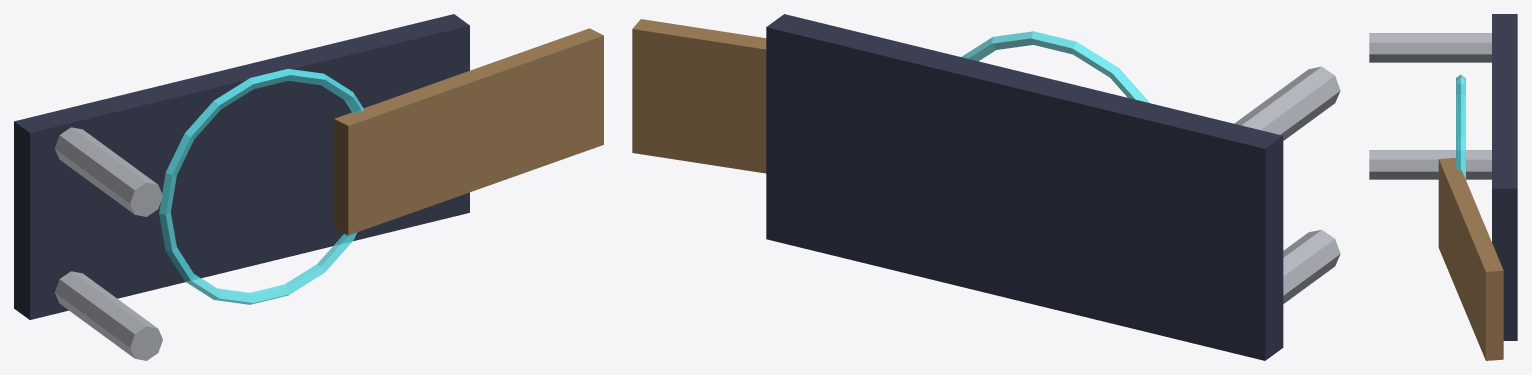
The model's file is 10_skyship_dock.glb.
The picture shows the model from 3 angles, left to right: view 1: azimuth 30°, elevation 25°; view 2: azimuth 150°, elevation 25°; view 3: azimuth 270°, elevation 25°; orthographic projection. The views are drawn at different scales.
Visible parts, largest first — view 1: dock_platform, boarding_ramp, dock_marker_ring, mooring_post_l, mooring_post_r; view 2: dock_platform, boarding_ramp, mooring_post_r, dock_marker_ring, mooring_post_l; view 3: boarding_ramp, dock_platform, mooring_post_r, mooring_post_l, dock_marker_ring.
Part boxes in pixels (x1,y1,x2,y2): dock_platform: [14, 14, 469, 319]; boarding_ramp: [334, 28, 603, 235]; dock_marker_ring: [159, 68, 363, 304]; mooring_post_l: [54, 271, 162, 360]; mooring_post_r: [54, 127, 162, 216]; dock_platform: [766, 14, 1283, 360]; boarding_ramp: [632, 19, 766, 173]; mooring_post_r: [1234, 66, 1340, 140]; dock_marker_ring: [961, 31, 1149, 102]; mooring_post_l: [1283, 230, 1340, 303]; boarding_ramp: [1438, 158, 1503, 360]; dock_platform: [1492, 14, 1517, 340]; mooring_post_r: [1369, 33, 1491, 62]; mooring_post_l: [1369, 150, 1491, 179]; dock_marker_ring: [1456, 74, 1465, 179].
Bounding box in the file's own units: 2.7 × 1.02 × 0.7475.
